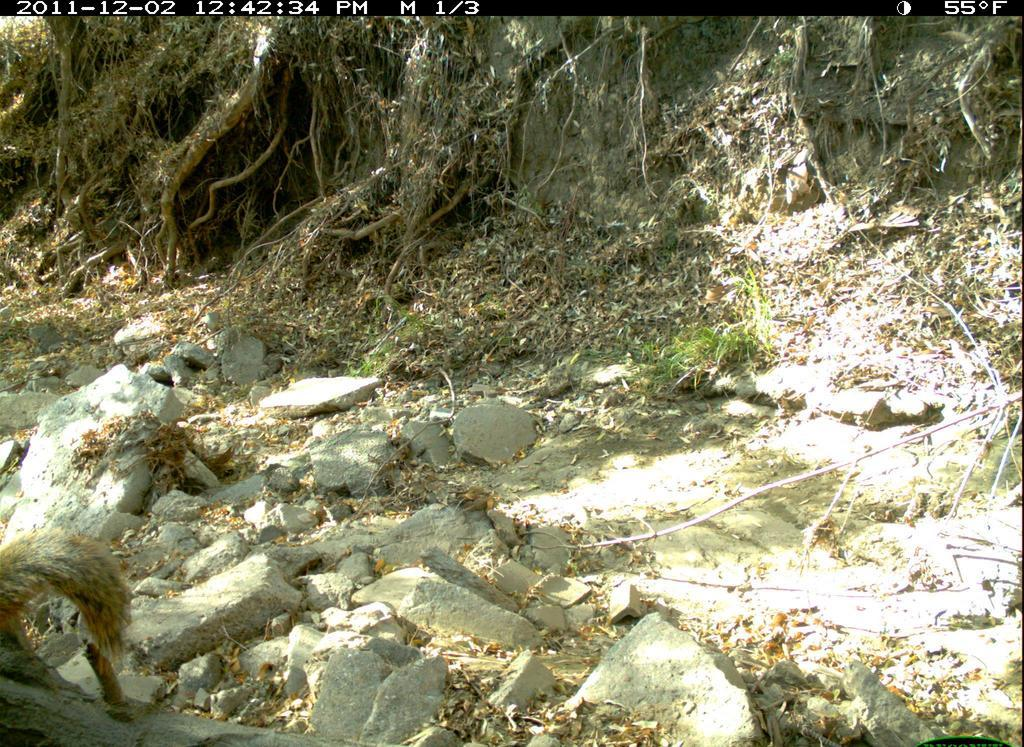squirrel: (2, 515, 153, 719)
